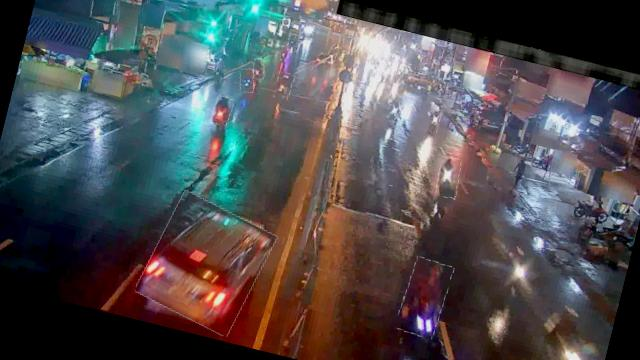Bike: (396, 257, 454, 341), (434, 156, 464, 200), (210, 95, 233, 127), (272, 72, 294, 101), (236, 68, 257, 95), (386, 94, 404, 120), (250, 58, 268, 82), (427, 109, 442, 134)
Car: (136, 190, 276, 337)
